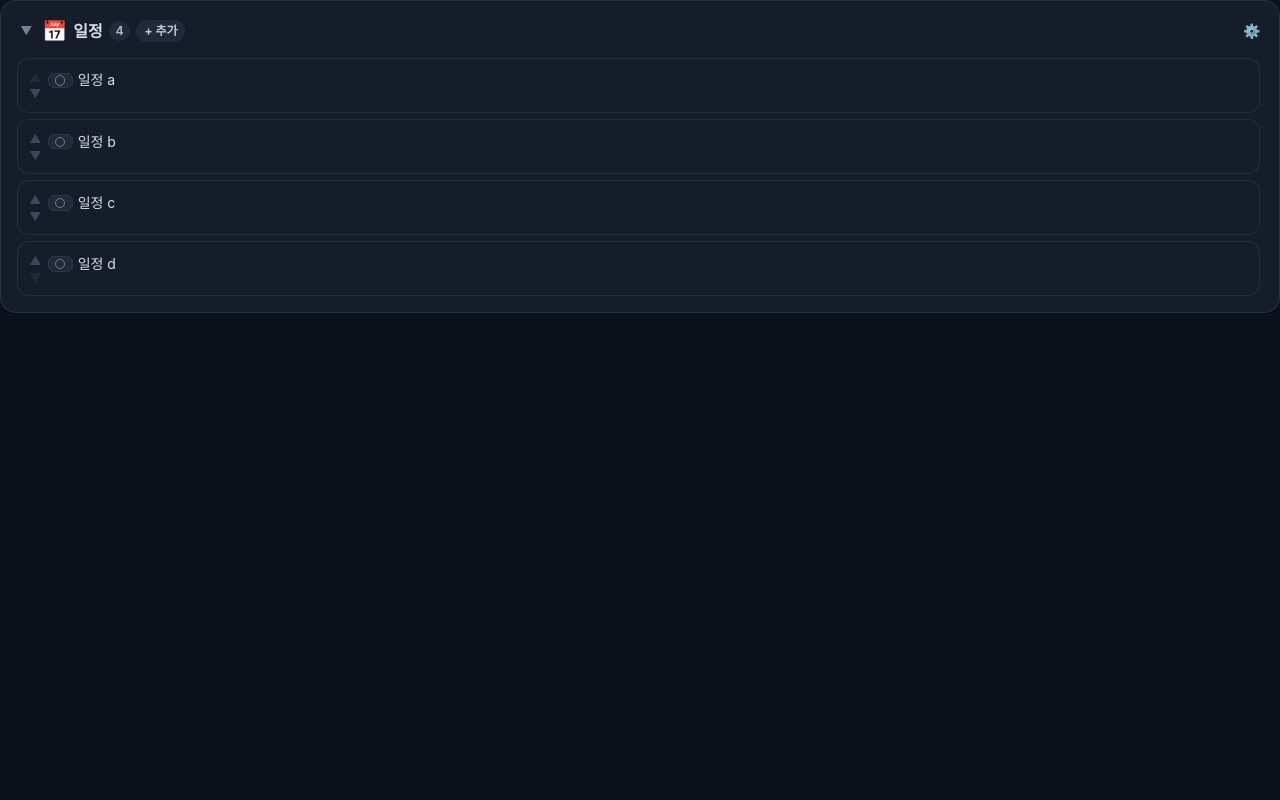
여러 개 고르기 › 그냥 누르기 = 수정 칸 (고르지 않는다), Ctrl+누르기 = 시작, 그 뒤 누르기 = 고르기·풀기, Shift = 범위
Click the element showing "일정 a" at [638, 85], box [17,58,1260,113]
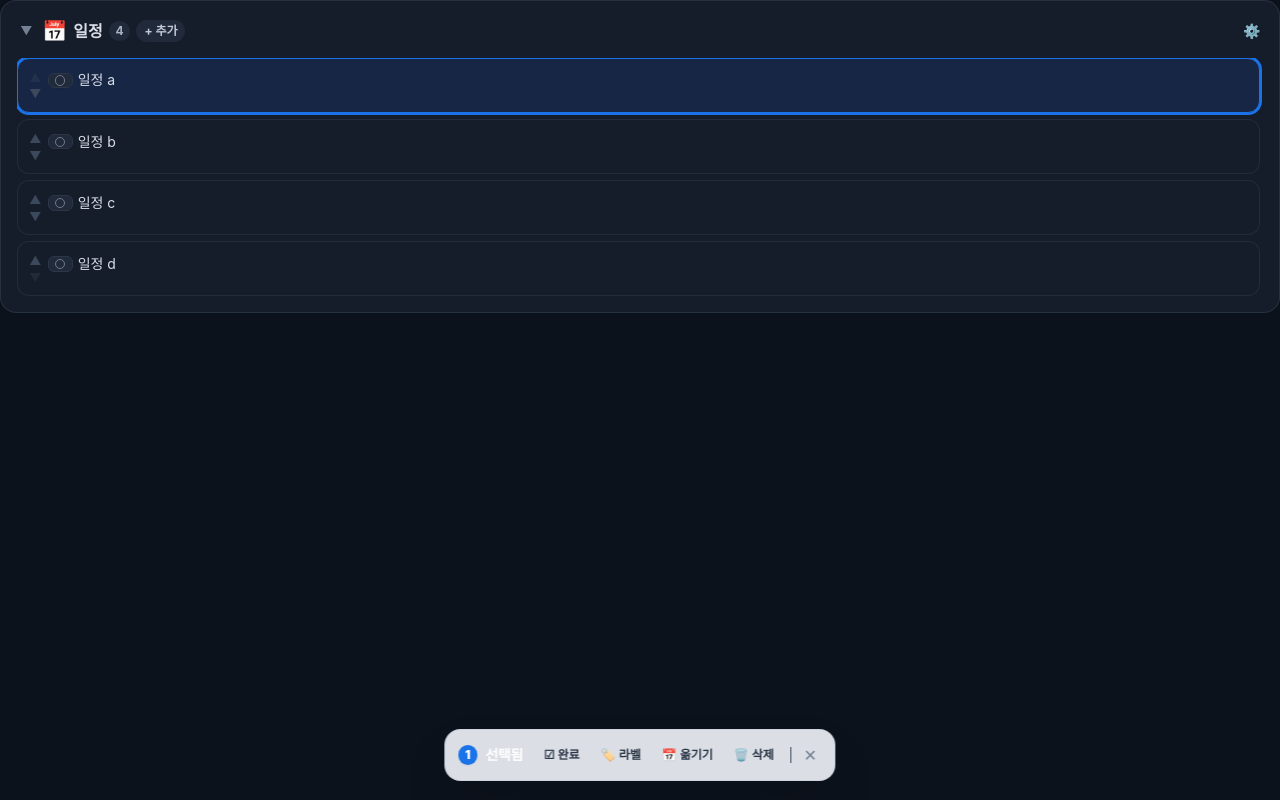
Click the element showing "일정 d" at [638, 269], box [17,241,1260,296]
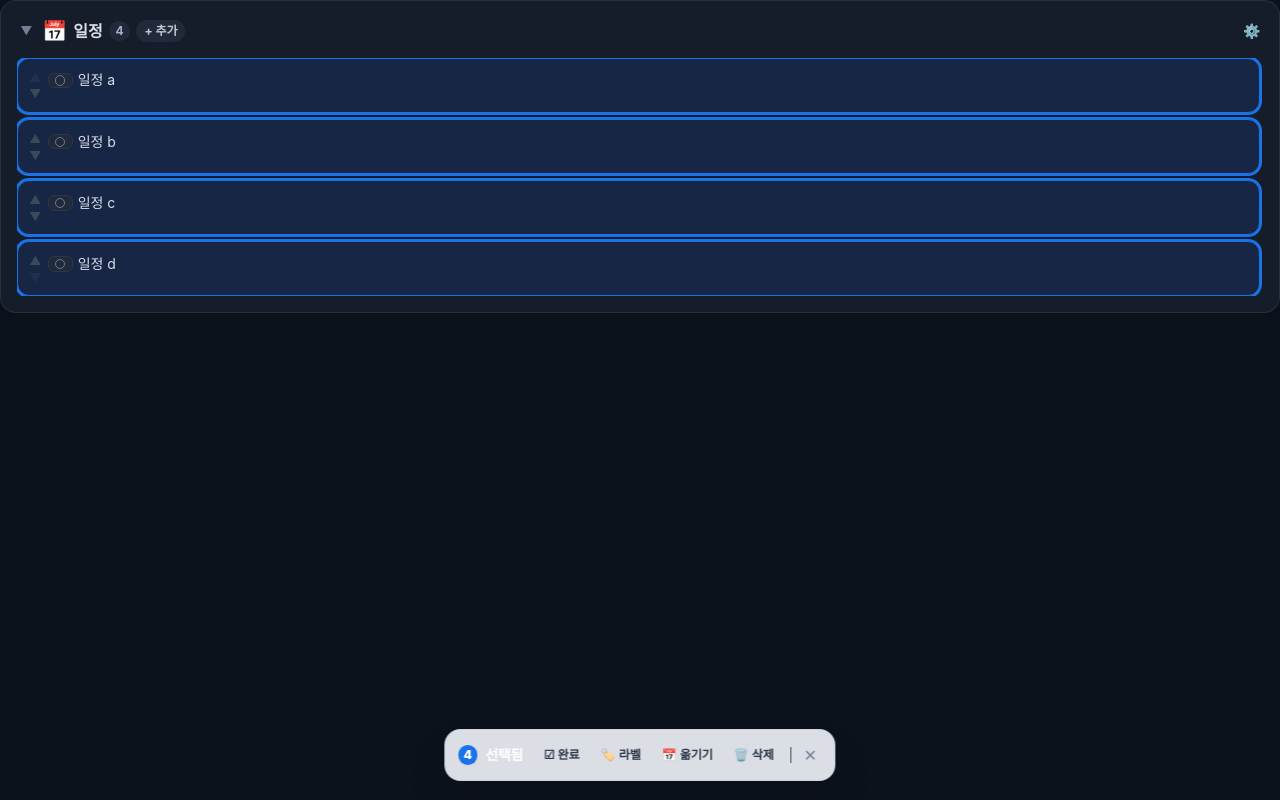
Click the element showing "일정 b" at [638, 146], box [17,119,1260,174]
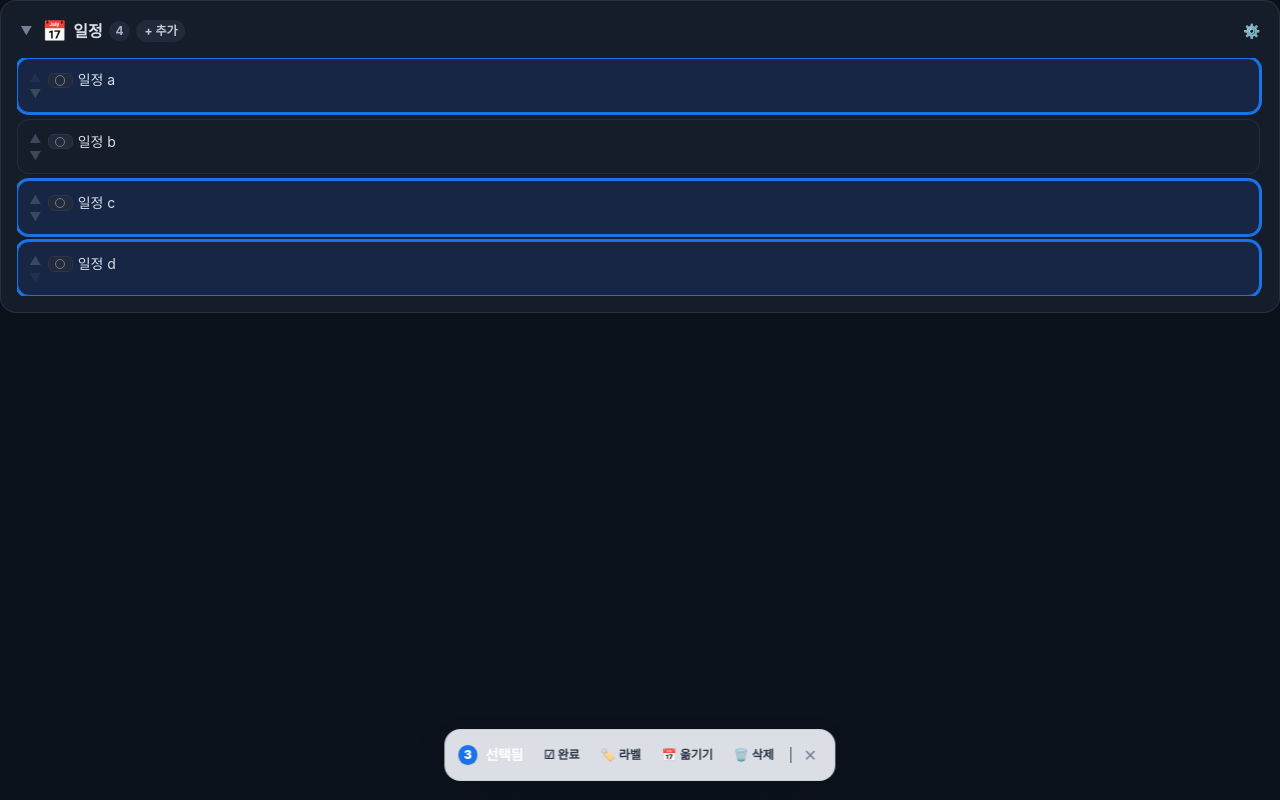
Check: the text "3" is shown, box [458,745,477,765]
